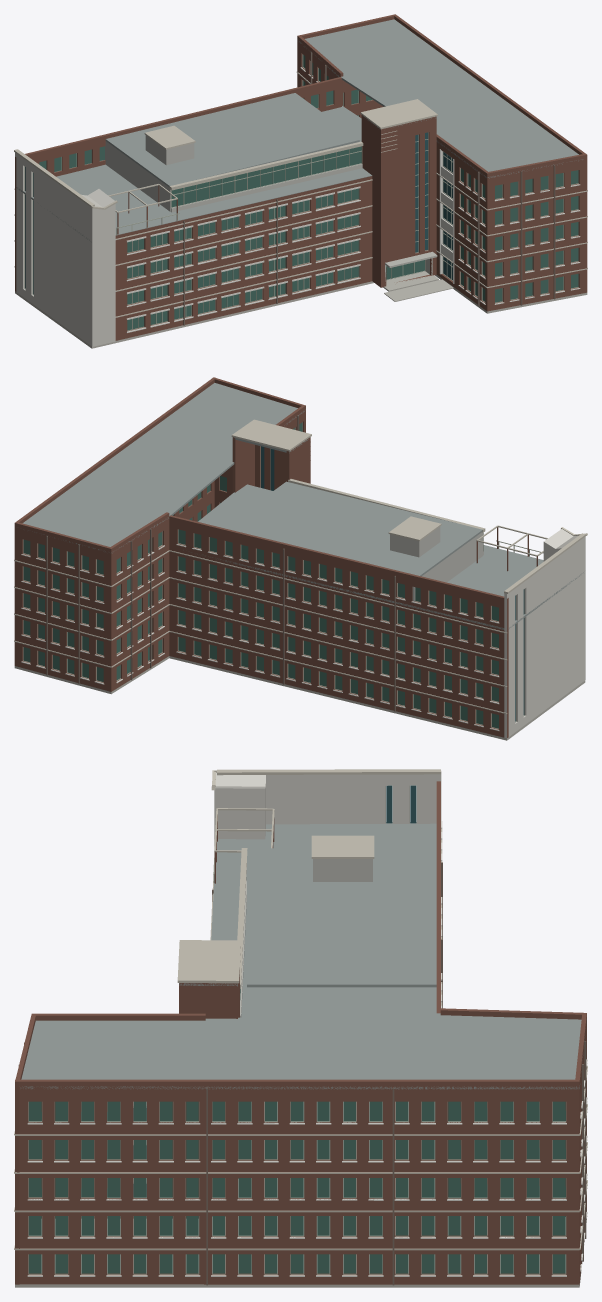
3 views of the same model, one above another, from view 1: azimuth 30°, elevation 25°; view 2: azimuth 150°, elevation 25°; view 3: azimuth 270°, elevation 25° (orthographic). The views are drawn at different scales.
Visible parts, largest first — view 1: c1-socsci__five-storey-side-rear-brick, c1-socsci__four-storey-front-brick, c1-socsci__right-wing-roof, c1-socsci__setback-roof-slab, c1-socsci__bright-left-end-return, c1-socsci__front-wide-green-windows-glass, c1-socsci__tall-projecting-brick-core, c1-socsci__four-storey-terrace-slab, c1-socsci__side-rear-narrow-windows-glass, c1-socsci__side-rear-parapets, c1-socsci__bright-left-end-front, c1-socsci__setback-top-continuous-glass-glass (+26 smaller); view 2: c1-socsci__five-storey-side-rear-brick, c1-socsci__right-wing-roof, c1-socsci__side-rear-narrow-windows-glass, c1-socsci__bright-left-end-return, c1-socsci__setback-roof-slab, c1-socsci__side-rear-parapets, c1-socsci__four-storey-terrace-slab, c1-socsci__side-rear-narrow-windows-frame, c1-socsci__side-rear-floor-bands, c1-socsci__side-rear-white-sills, c1-socsci__side-rear-brown-downpipes, c1-socsci__osm-ground-floor (+9 smaller); view 3: c1-socsci__five-storey-side-rear-brick, c1-socsci__right-wing-roof, c1-socsci__side-rear-narrow-windows-glass, c1-socsci__setback-roof-slab, c1-socsci__four-storey-terrace-slab, c1-socsci__side-rear-parapets, c1-socsci__bright-left-end-return, c1-socsci__side-rear-narrow-windows-frame, c1-socsci__side-rear-floor-bands, c1-socsci__osm-ground-floor, c1-socsci__side-rear-white-sills, c1-socsci__brick-core-coping (+8 smaller).
Boxes of the visible parts, left/top/right/bottom form: c1-socsci__five-storey-side-rear-brick: left=15, top=39, right=587, bottom=311; c1-socsci__four-storey-front-brick: left=115, top=176, right=372, bottom=340; c1-socsci__right-wing-roof: left=299, top=19, right=583, bottom=178; c1-socsci__setback-roof-slab: left=105, top=93, right=359, bottom=187; c1-socsci__bright-left-end-return: left=15, top=153, right=91, bottom=346; c1-socsci__front-wide-green-windows-glass: left=127, top=188, right=358, bottom=330; c1-socsci__tall-projecting-brick-core: left=379, top=116, right=436, bottom=287; c1-socsci__four-storey-terrace-slab: left=16, top=106, right=372, bottom=242; c1-socsci__side-rear-narrow-windows-glass: left=39, top=55, right=578, bottom=302; c1-socsci__side-rear-parapets: left=15, top=14, right=587, bottom=176; c1-socsci__bright-left-end-front: left=92, top=205, right=115, bottom=346; c1-socsci__setback-top-continuous-glass-glass: left=171, top=146, right=361, bottom=207; c1-socsci__five-storey-side-rear-brick: left=14, top=409, right=508, bottom=737; c1-socsci__right-wing-roof: left=22, top=383, right=305, bottom=553; c1-socsci__side-rear-narrow-windows-glass: left=23, top=422, right=498, bottom=728; c1-socsci__bright-left-end-return: left=504, top=537, right=585, bottom=738; c1-socsci__setback-roof-slab: left=223, top=481, right=482, bottom=576; c1-socsci__side-rear-parapets: left=14, top=377, right=508, bottom=601; c1-socsci__four-storey-terrace-slab: left=183, top=484, right=583, bottom=629; c1-socsci__side-rear-narrow-windows-frame: left=23, top=422, right=498, bottom=729; c1-socsci__side-rear-floor-bands: left=14, top=550, right=507, bottom=714; c1-socsci__side-rear-white-sills: left=21, top=544, right=499, bottom=730; c1-socsci__side-rear-brown-downpipes: left=46, top=415, right=395, bottom=711; c1-socsci__osm-ground-floor: left=14, top=656, right=585, bottom=740; c1-socsci__five-storey-side-rear-brick: left=15, top=1019, right=586, bottom=1284; c1-socsci__right-wing-roof: left=20, top=1013, right=586, bottom=1089; c1-socsci__side-rear-narrow-windows-glass: left=29, top=1101, right=565, bottom=1273; c1-socsci__setback-roof-slab: left=247, top=848, right=436, bottom=987; c1-socsci__four-storey-terrace-slab: left=211, top=822, right=436, bottom=1017; c1-socsci__side-rear-parapets: left=15, top=781, right=586, bottom=1086; c1-socsci__bright-left-end-return: left=217, top=774, right=441, bottom=824; c1-socsci__side-rear-narrow-windows-frame: left=28, top=1101, right=566, bottom=1274; c1-socsci__side-rear-floor-bands: left=14, top=828, right=587, bottom=1250; c1-socsci__osm-ground-floor: left=15, top=1102, right=586, bottom=1287; c1-socsci__side-rear-white-sills: left=27, top=821, right=587, bottom=1276; c1-socsci__brick-core-coping: left=177, top=940, right=240, bottom=983.
Bounding box in the file's own units: 60.75 × 22 × 47.77.
